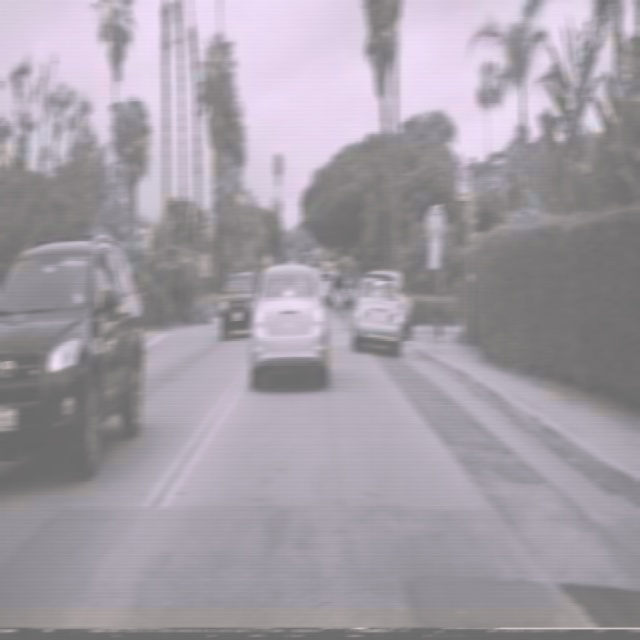stop: (426, 203, 445, 240)
